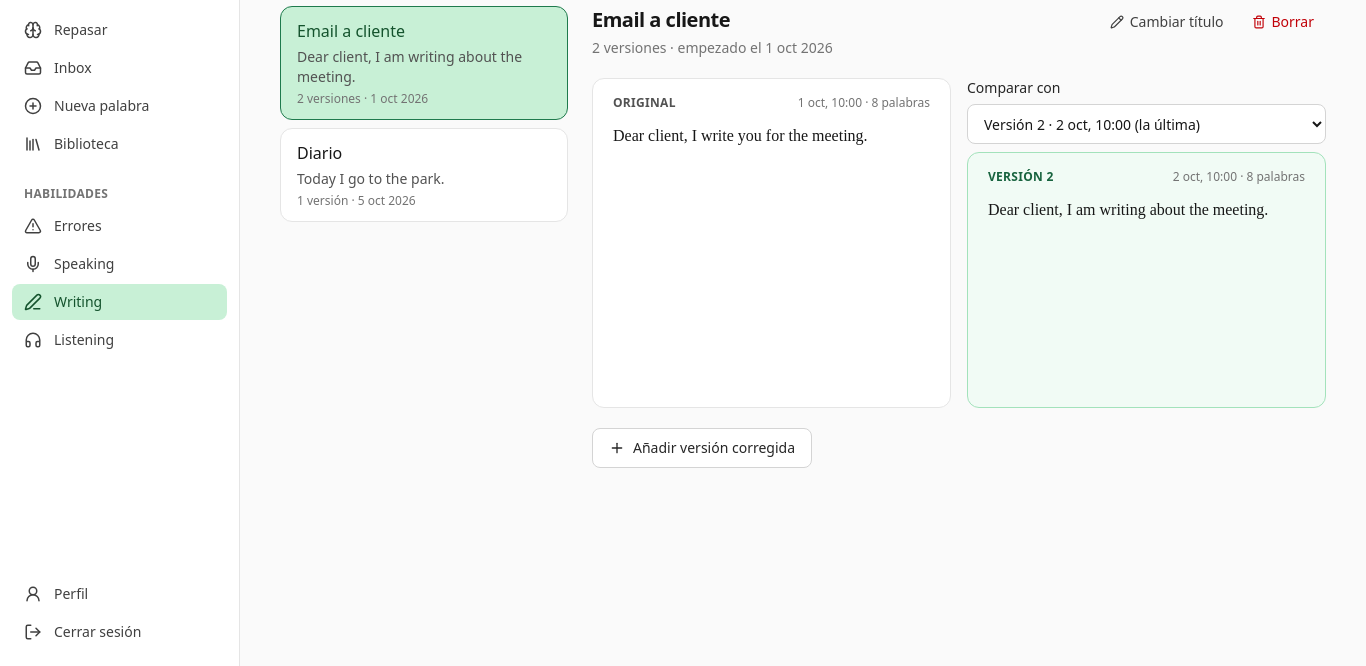
Test: 14.1 · Writing › una versión sin cambios no se guarda
Click the button "Añadir versión corregida".
click(702, 448)  # box x1=592 y1=428 x2=812 y2=468
(page scrolled)
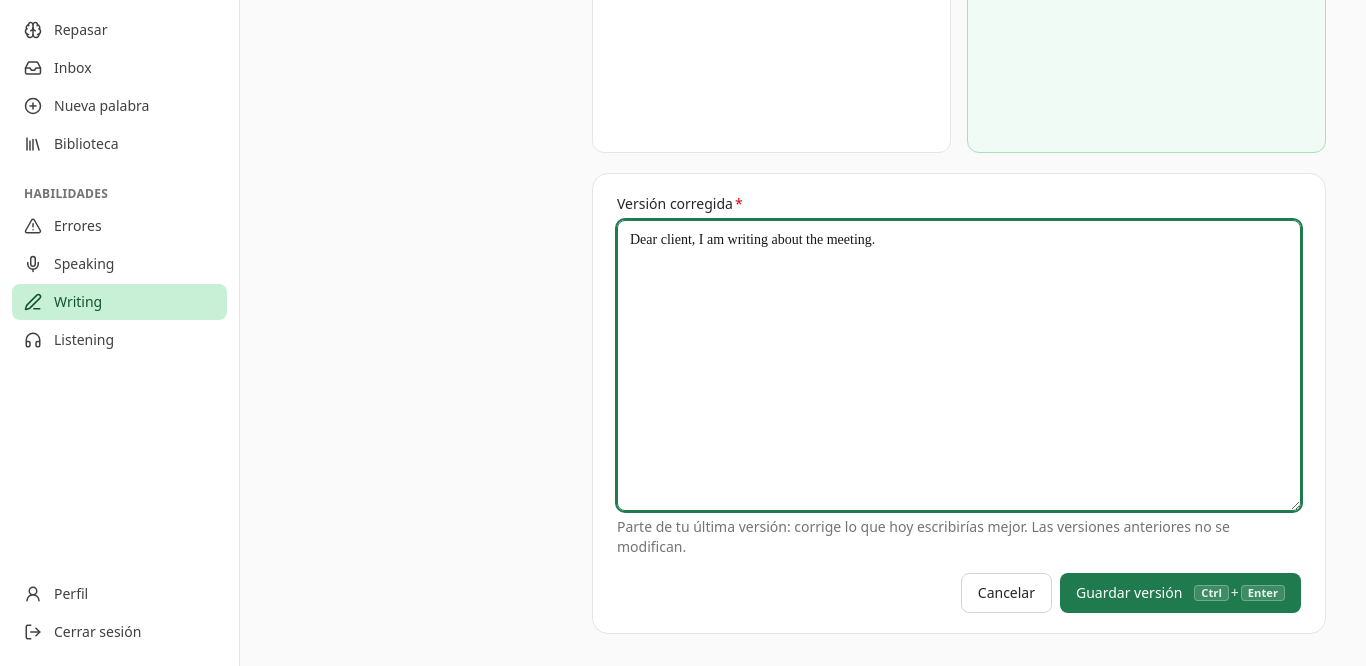
Click the button "Guardar versión Ctrl + Enter".
click(1180, 593)  # box x1=1060 y1=573 x2=1301 y2=613
(page scrolled)
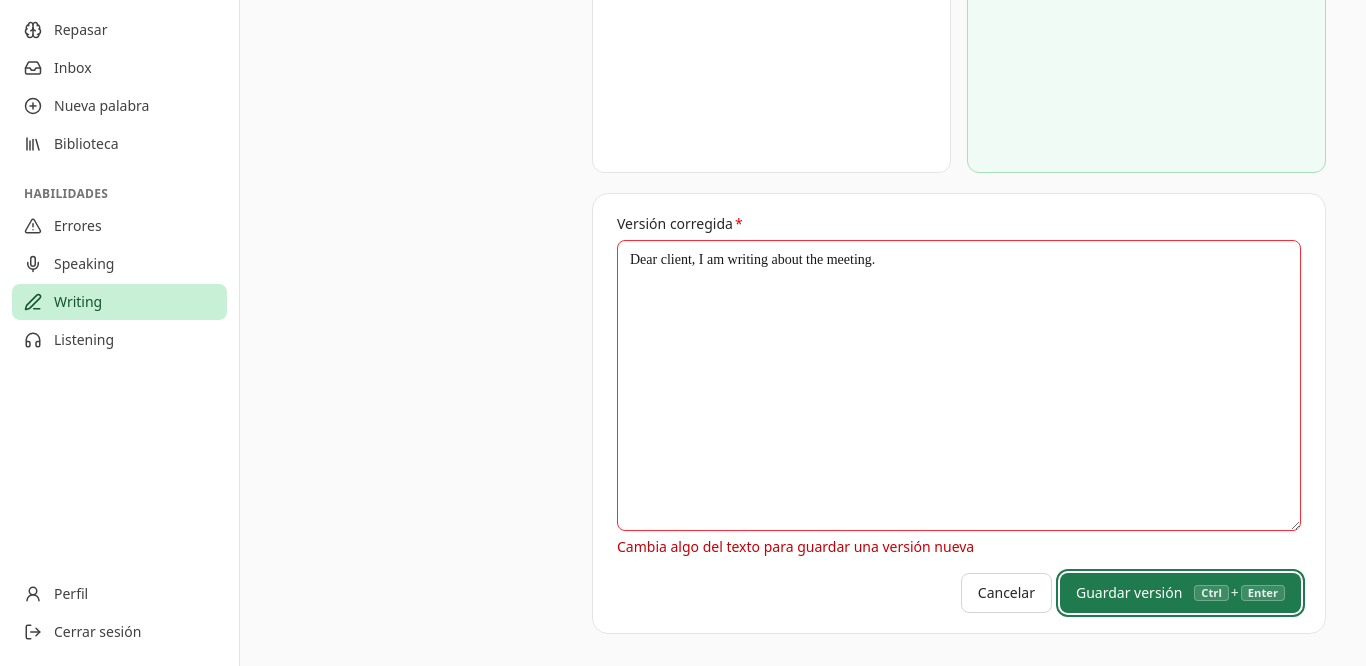
Expected: the text "Cambia algo del texto para guardar una versión nueva" is shown, x1=617 y1=537 x2=974 y2=556
